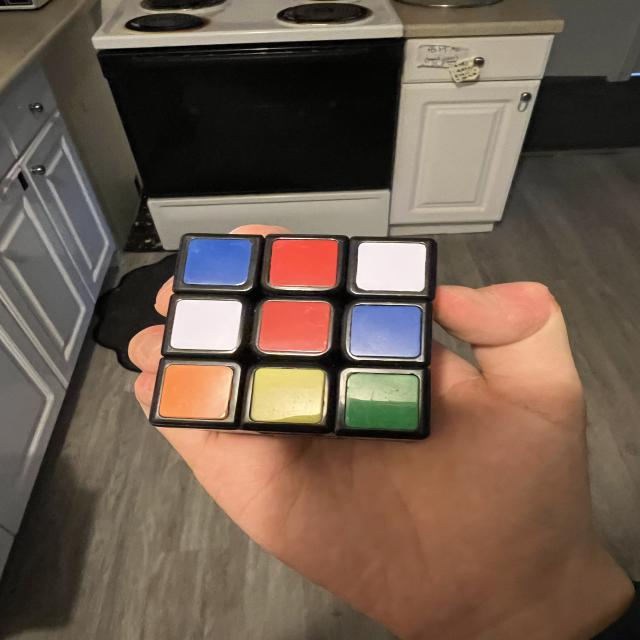blue: (346, 303, 423, 359), (182, 235, 252, 289)
center: (256, 297, 333, 358)
green: (344, 372, 420, 430)
orange: (159, 364, 233, 421)
red: (257, 297, 333, 357), (269, 238, 339, 289)
white: (170, 297, 242, 354), (354, 240, 427, 294)
yellow: (249, 367, 328, 425)
